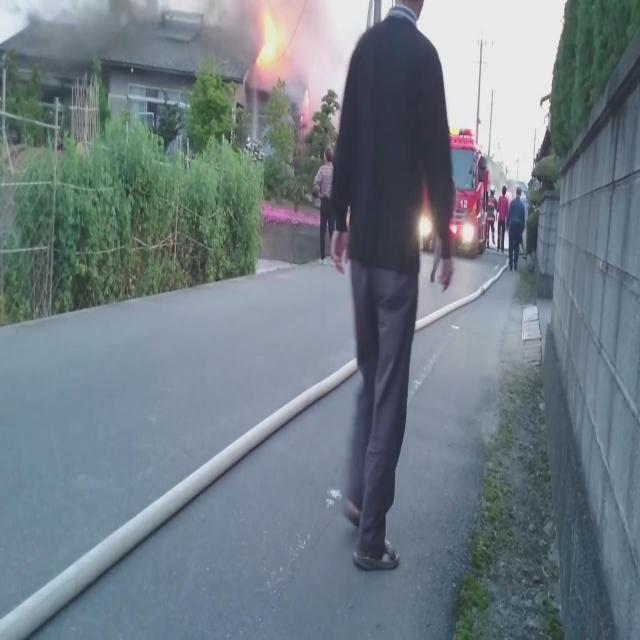Fire: (258, 10, 286, 62)
